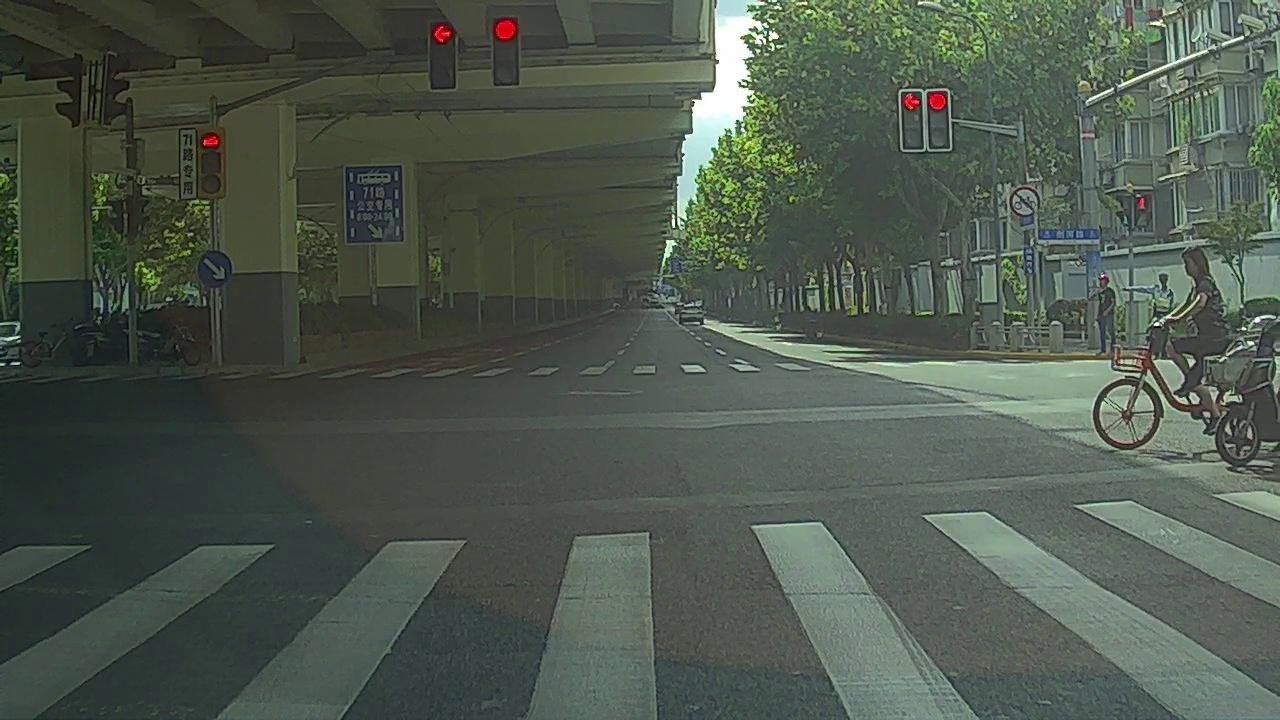traffic_light: (493, 17, 518, 85), (429, 22, 454, 89), (899, 91, 922, 149), (927, 91, 949, 149)
